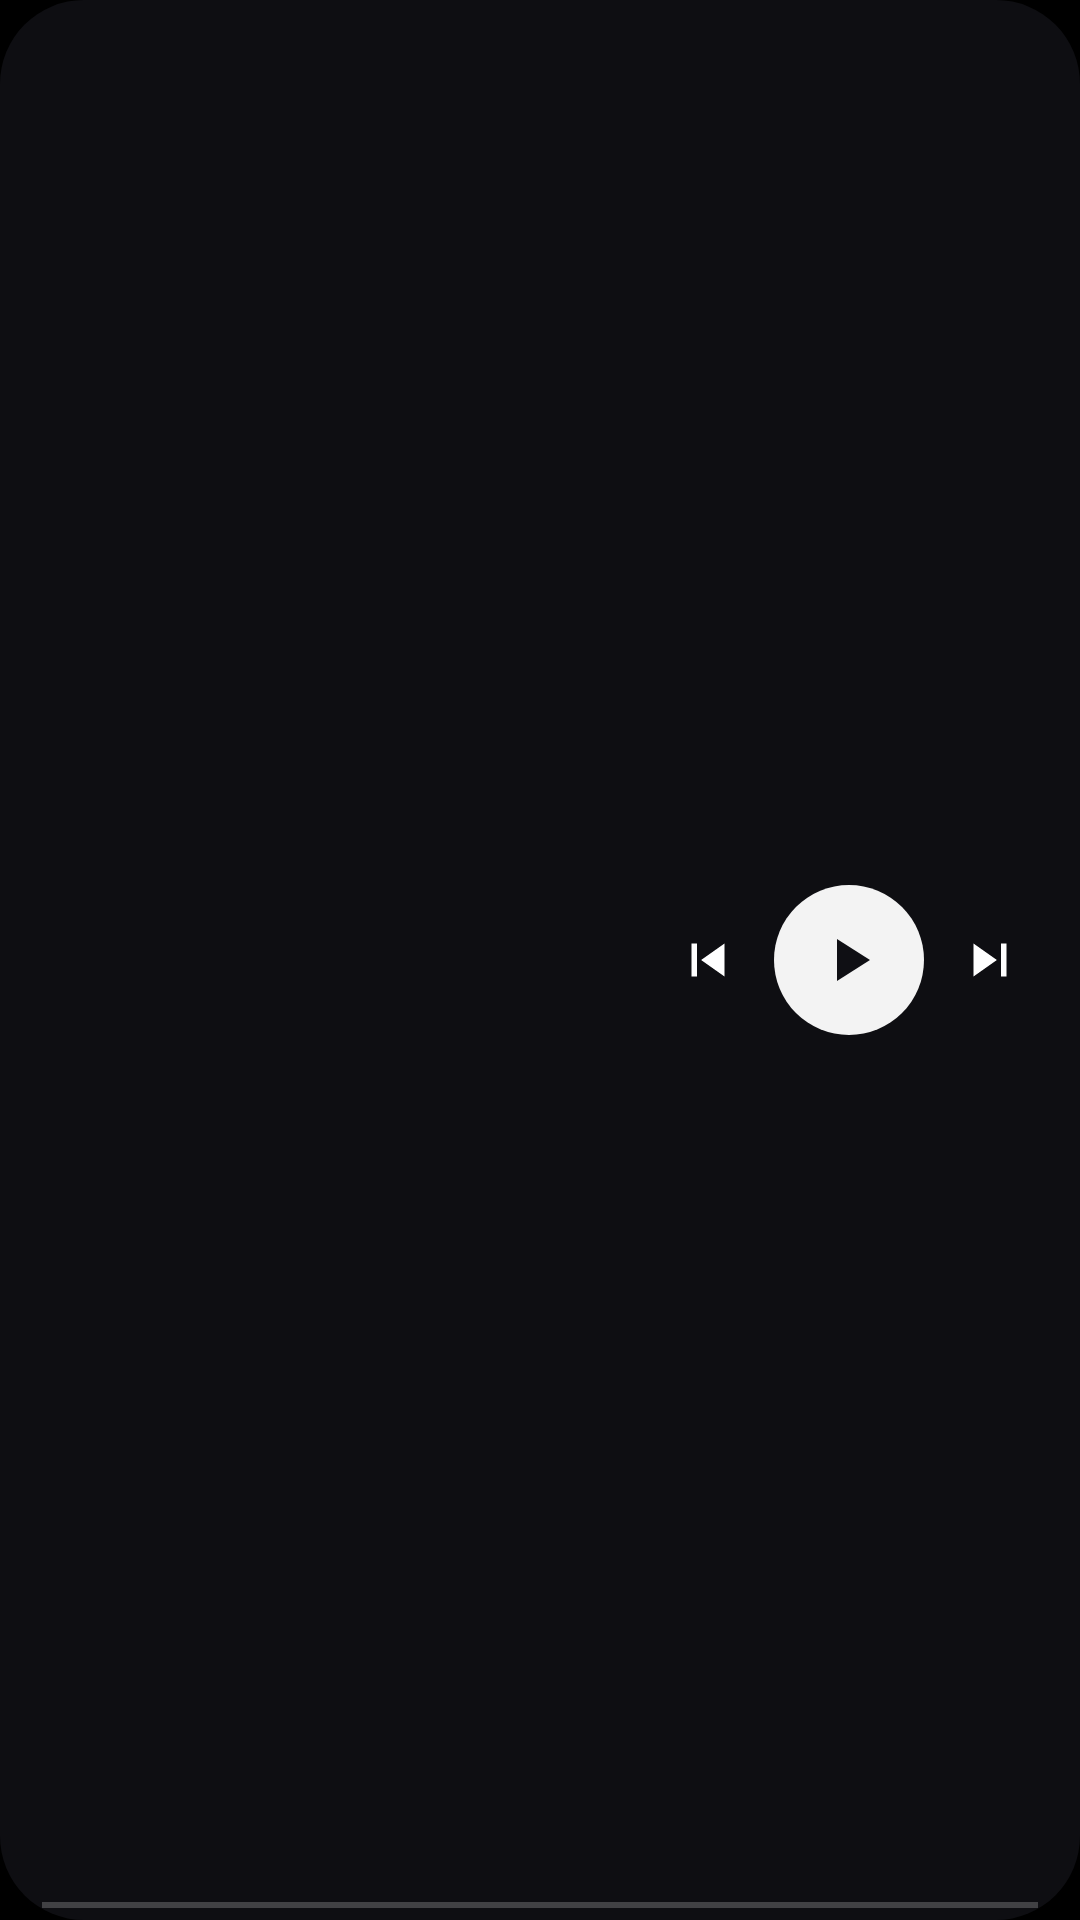

Named icons in this screenshot (1080px×1920px) and their bounding boxes, box=[x1, y1, x2, y2]:
Next: box=[973, 943, 1007, 977]
Play / pause: box=[774, 885, 924, 1035]
Previous: box=[691, 943, 725, 977]
